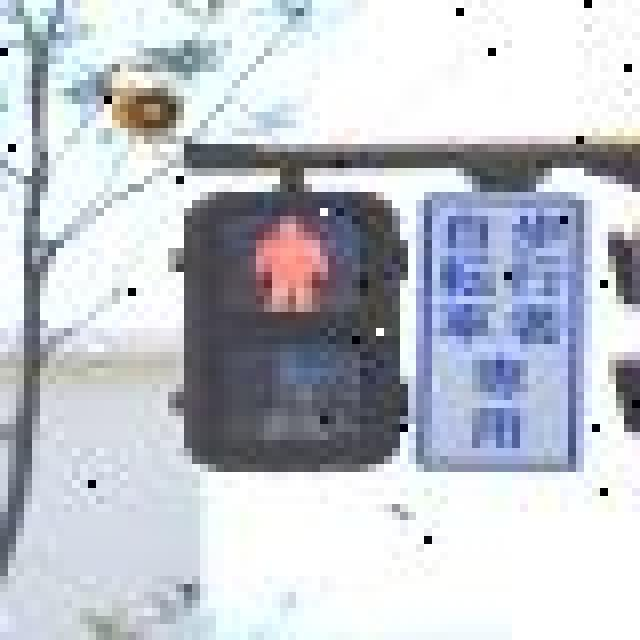redlight: (184, 205, 396, 465)
